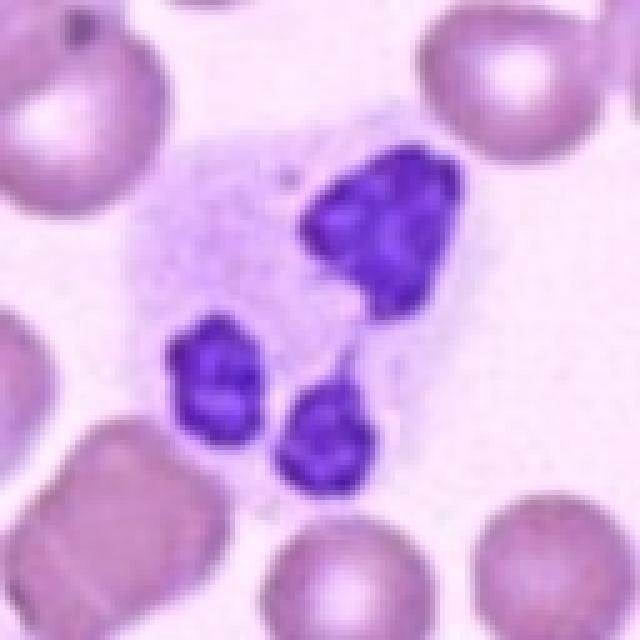neutro: (165, 87, 621, 533)
